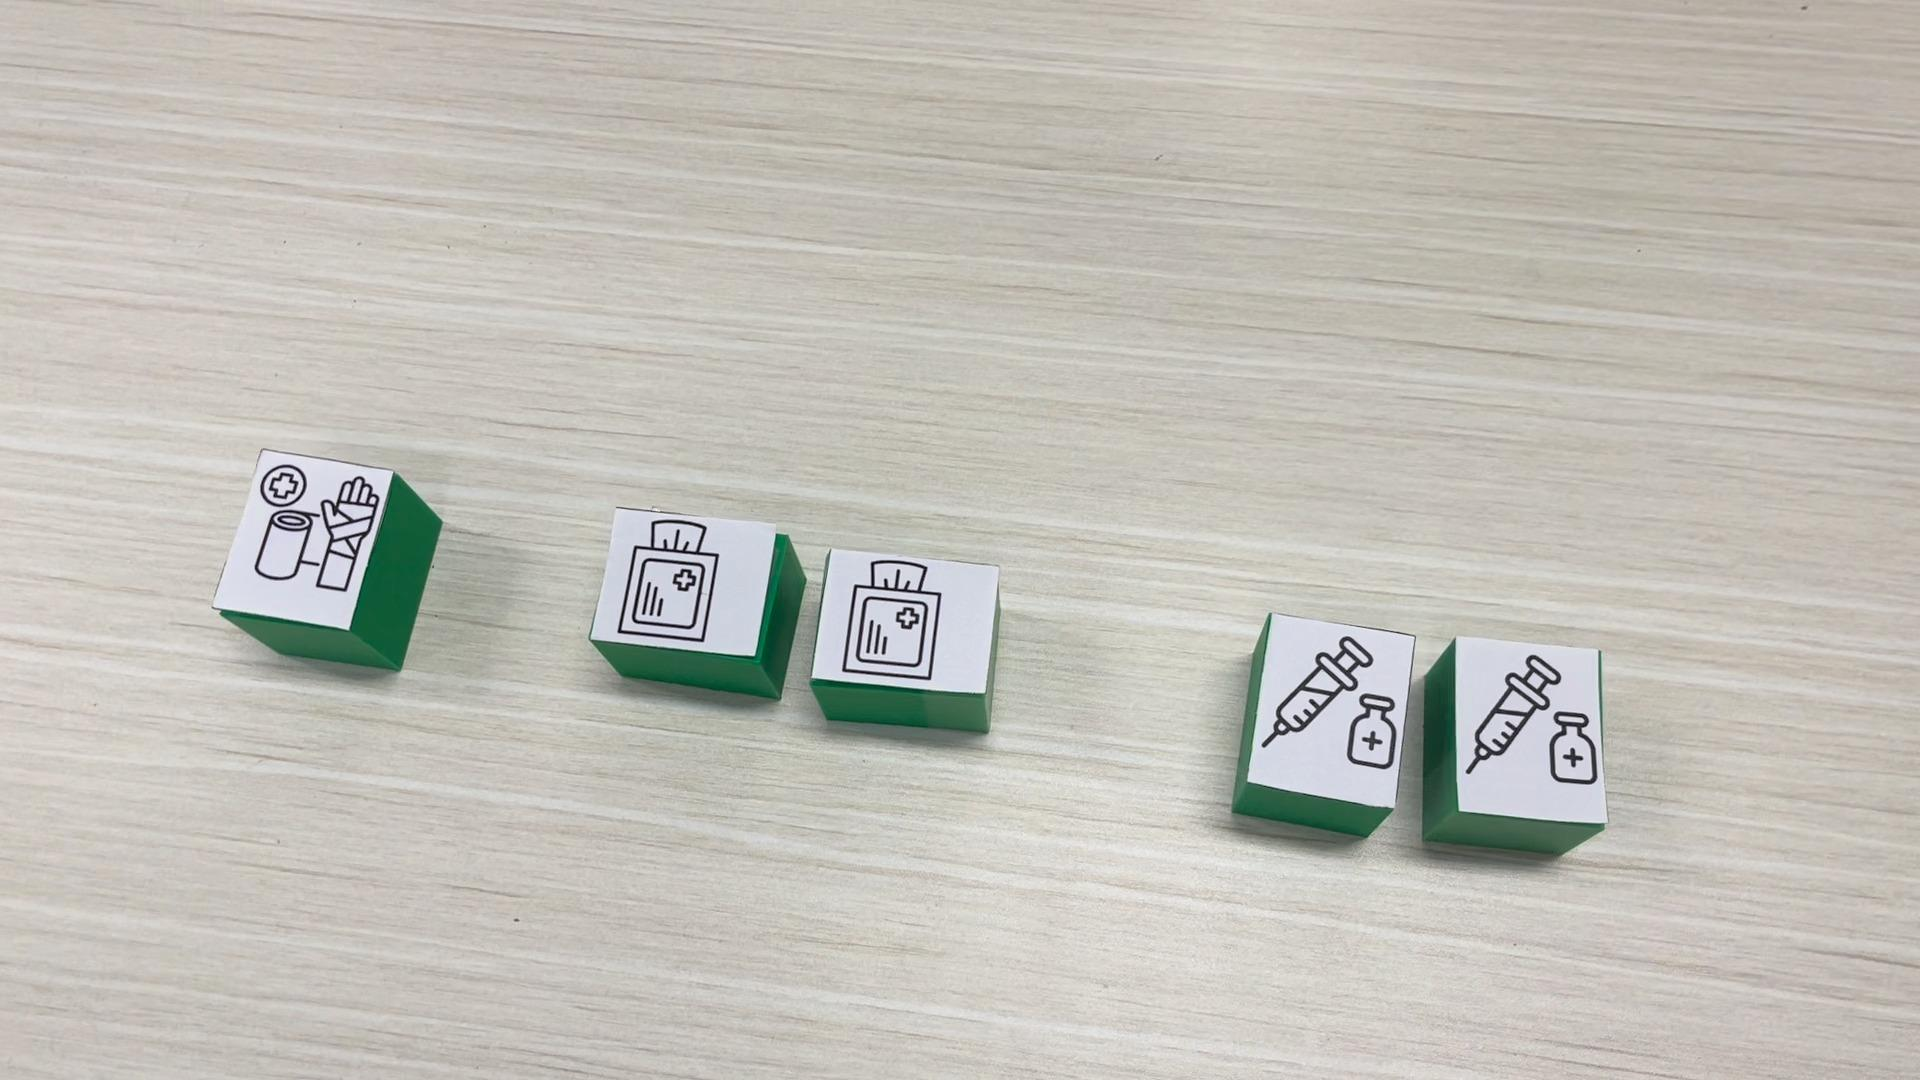Bandages: (212, 448, 442, 671)
Gauze: (588, 505, 804, 703), (814, 537, 1001, 735)
antiseptic cream: (1230, 611, 1433, 840), (1423, 632, 1610, 855)
